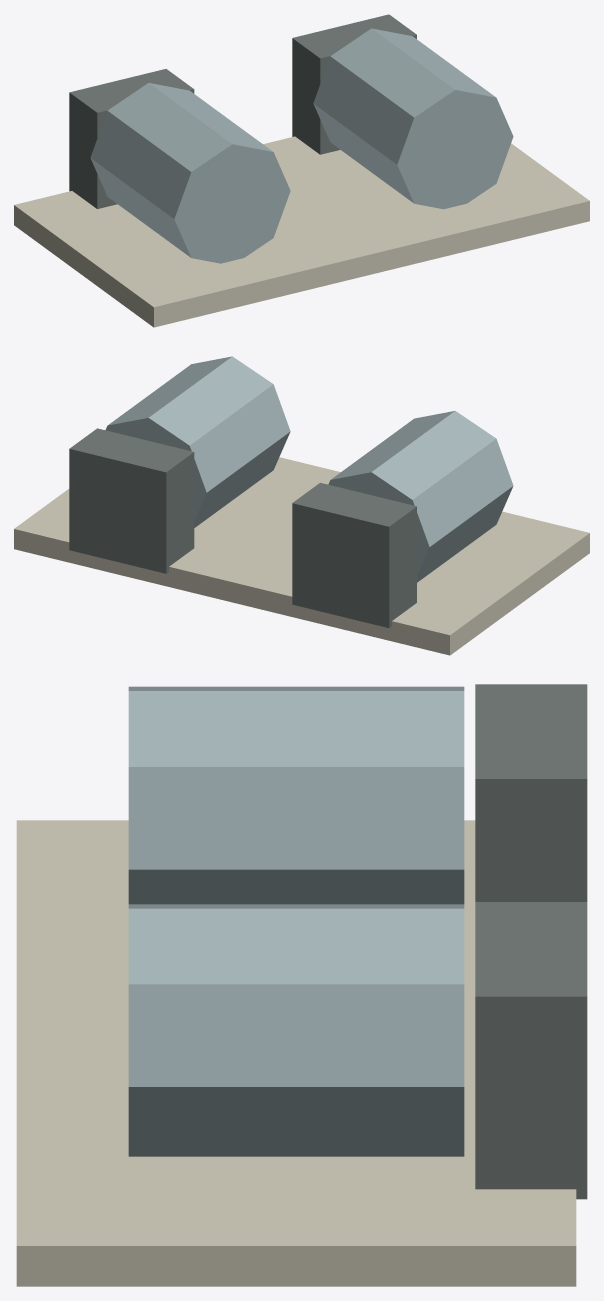
3 renders of one model, top to bottom at view 1: azimuth 30°, elevation 25°; view 2: azimuth 150°, elevation 25°; view 3: azimuth 270°, elevation 25°, orthographic. The views are drawn at different scales.
Bounding box in the file's own units: 9 × 2.7 × 5.1.
